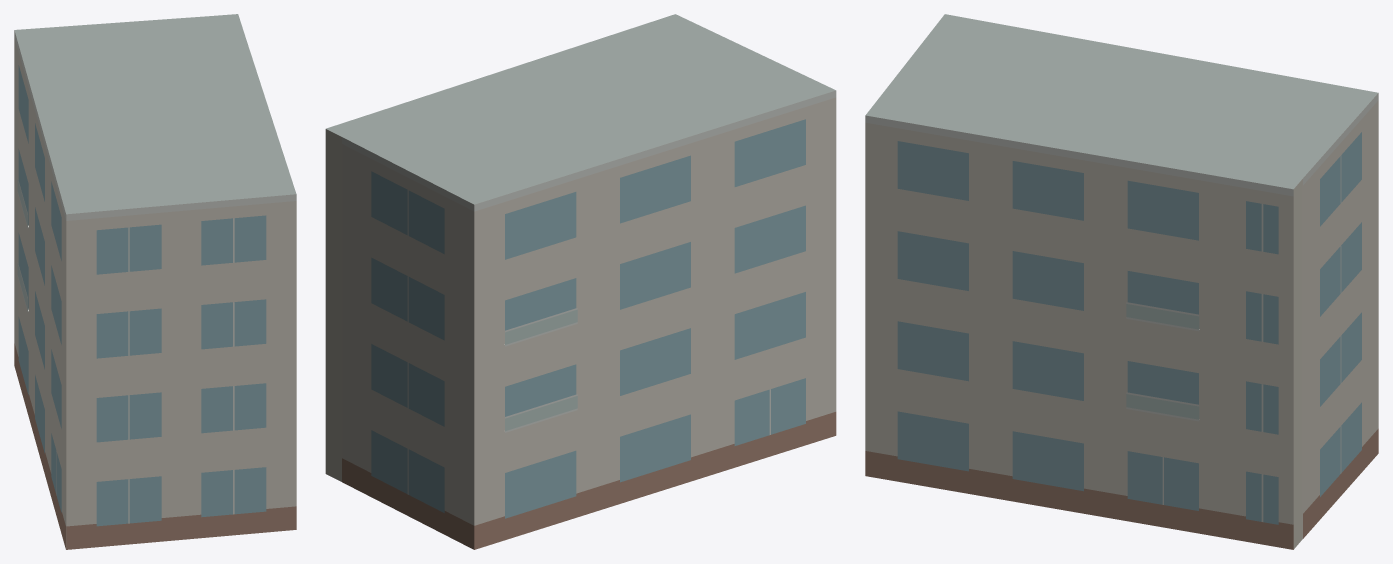
Rendered from survey-upis-32878011.glb.
3 views of the same model, side by side, from view 1: azimuth 30°, elevation 25°; view 2: azimuth 150°, elevation 25°; view 3: azimuth 270°, elevation 25° (orthographic). The views are drawn at different scales.
Parts seen in each view (by area): view 1: survey-upis-32878011.tmp; view 2: survey-upis-32878011.tmp; view 3: survey-upis-32878011.tmp.
Boxes of the visible parts, bbox=[...] form: survey-upis-32878011.tmp: bbox=[14, 14, 296, 549]; survey-upis-32878011.tmp: bbox=[325, 14, 836, 549]; survey-upis-32878011.tmp: bbox=[865, 14, 1378, 549].
Size of the model in its own units: 12.73 by 12.2 by 15.75.
